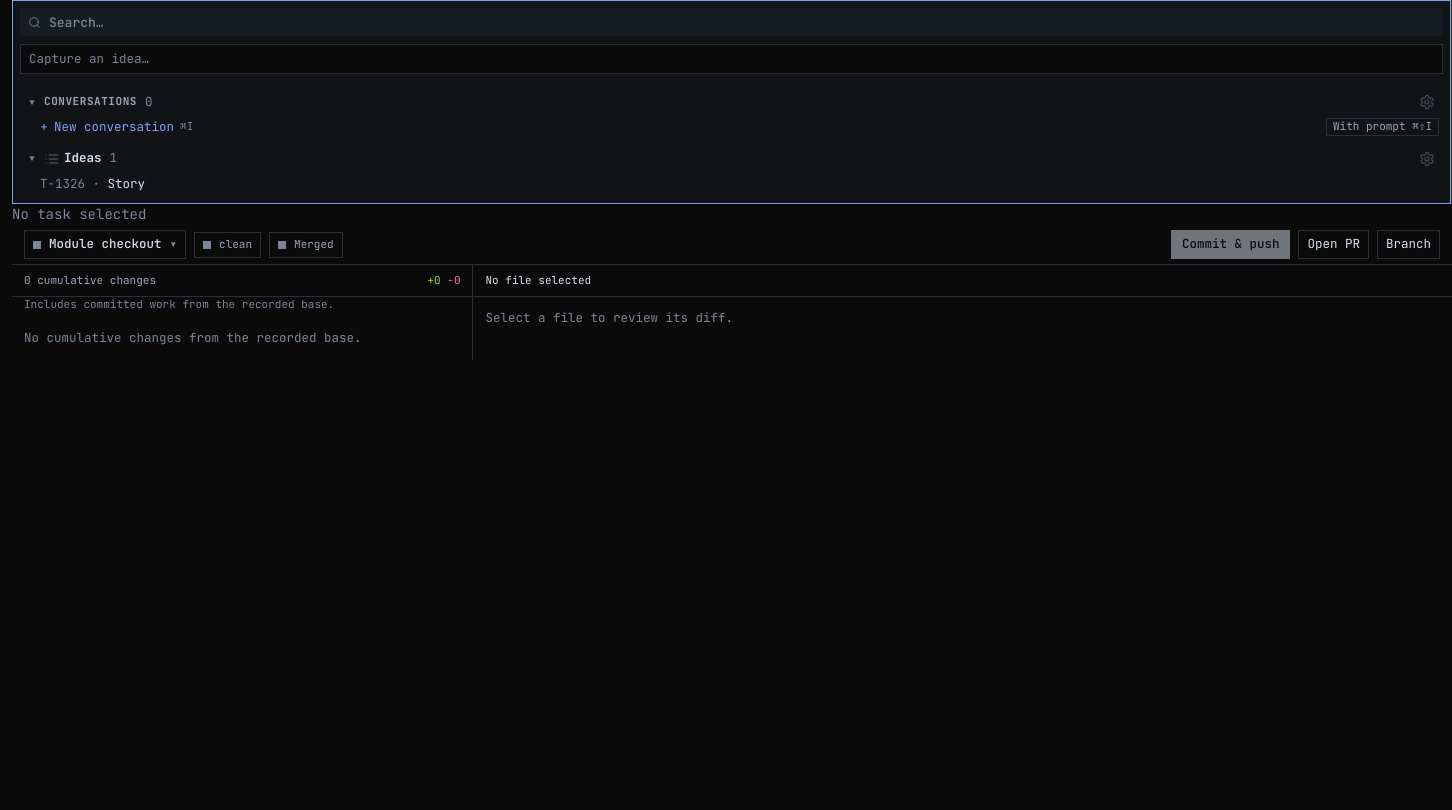
Test: overhaul acceptance - merged worktree cleanup › [overhaul-200] explains cleanup blocker pull_request_absent without offering removal
Click the button "Branch" at (1408, 245), box 1377,230 -> 1440,259
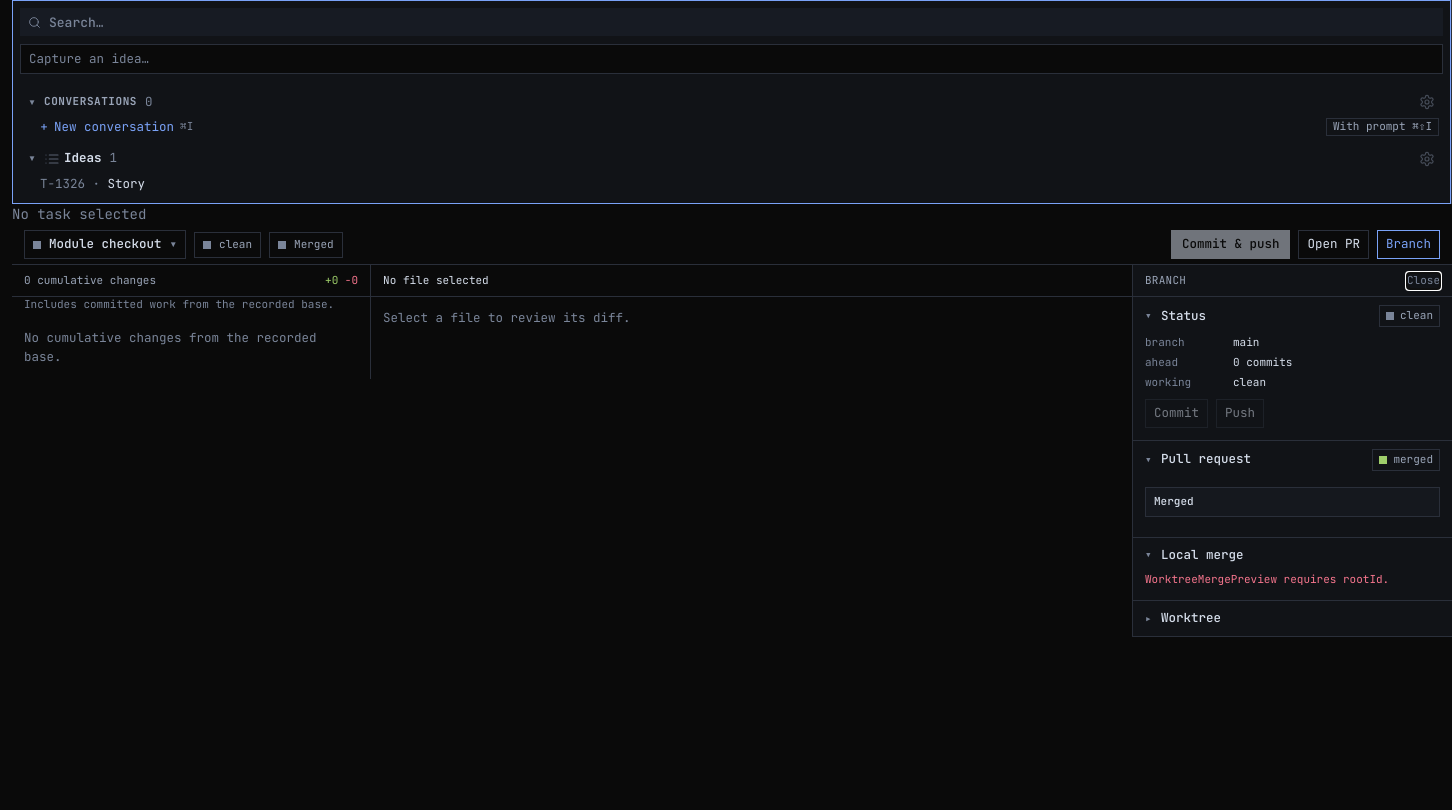
Expected: the element with test id "changes-branch-inspector" is shown, 1132,265 -> 1451,637
Click the heading "▸ Worktree" at (1183, 618), box 1145,609 -> 1221,626
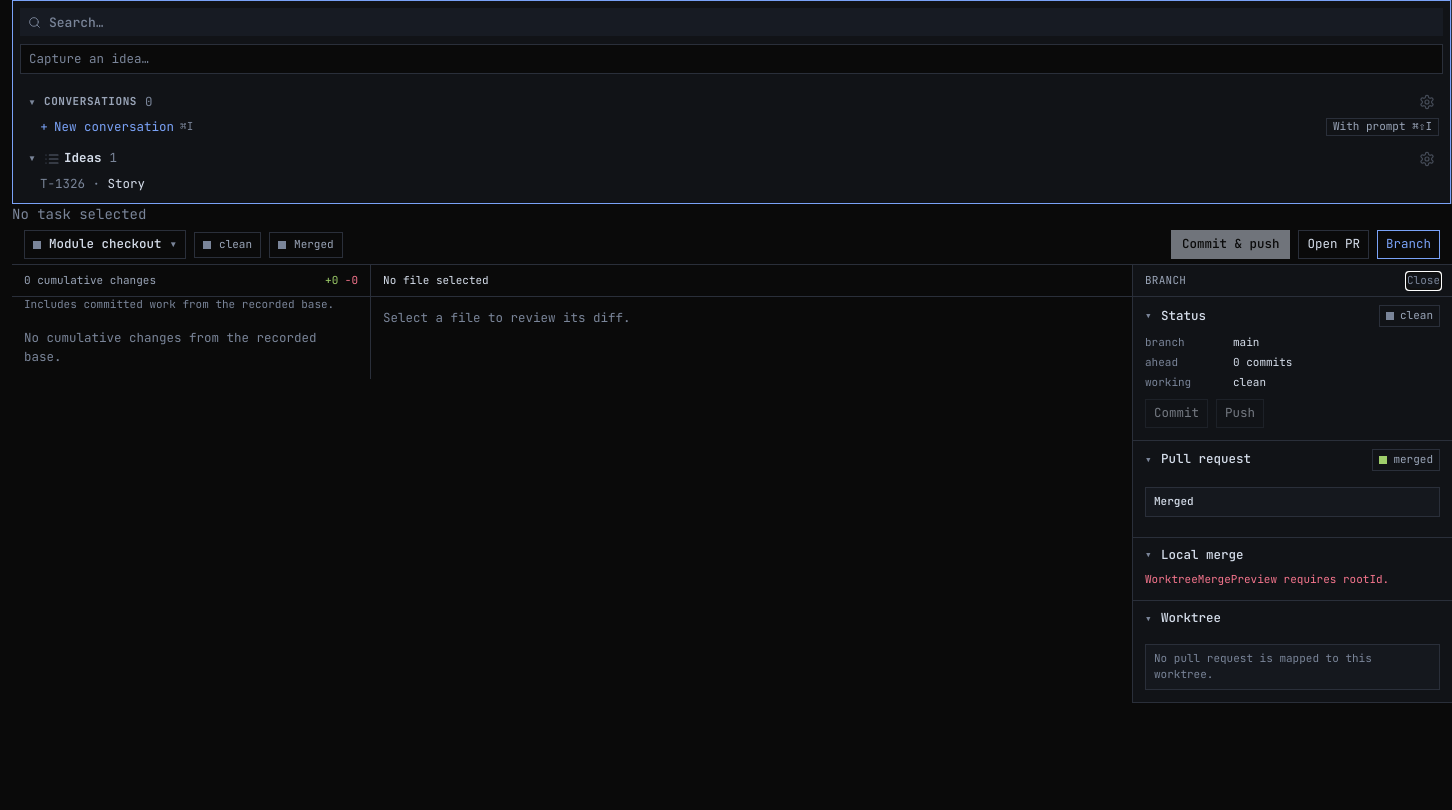
Expected: the text named "Worktree cleanup status" reads "No pull request is mapped to this worktree.", 1154,651 -> 1372,681
